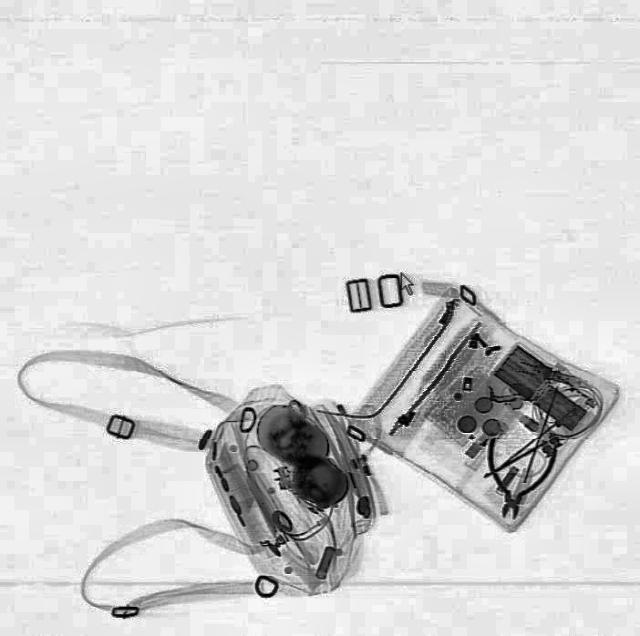Pliers: (474, 434, 556, 524)
